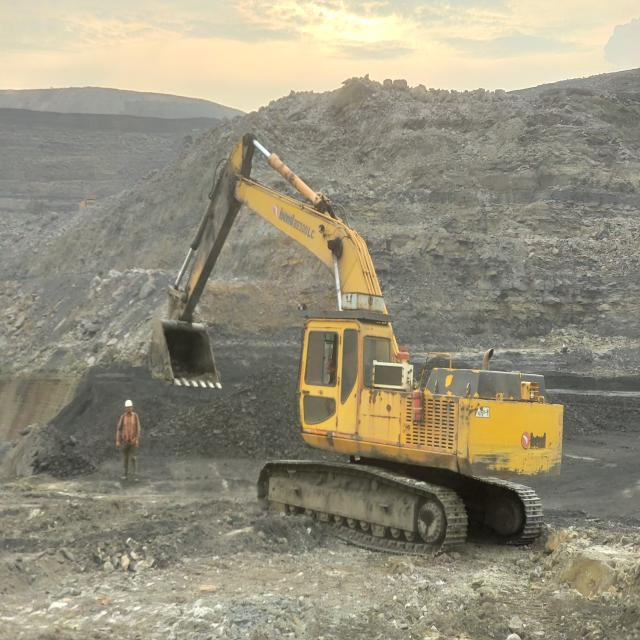excavator: (147, 136, 566, 547)
